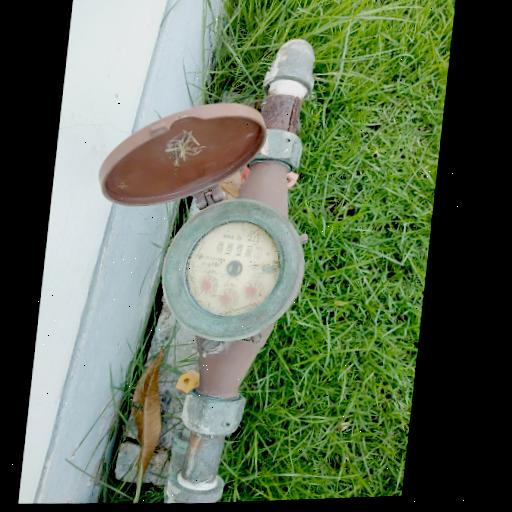0: (215, 240, 224, 253)
1: (254, 246, 263, 259)
6: (234, 243, 243, 256)
8: (243, 244, 252, 257), (225, 241, 233, 254)
border_water_meter_number: (214, 239, 264, 260)
